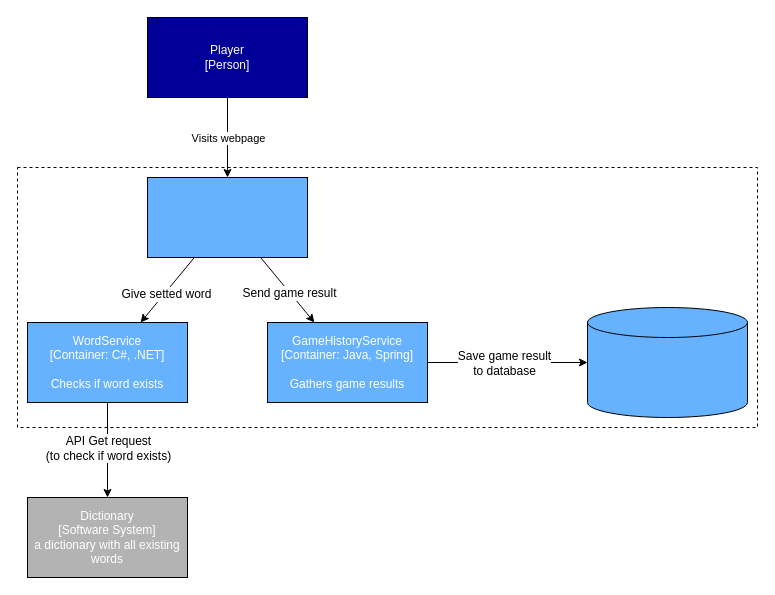
Some shapes in this 775 by 595 pixel diagram are drawn without their labels. Here are the shapes that lost their labels. From the top down, the centre of each, then its label:
[227,217]: WebApp (Game) [Container: Javascript, React] Playable game
[667,362]: Database [Container: MySQL] Has all results of played games
